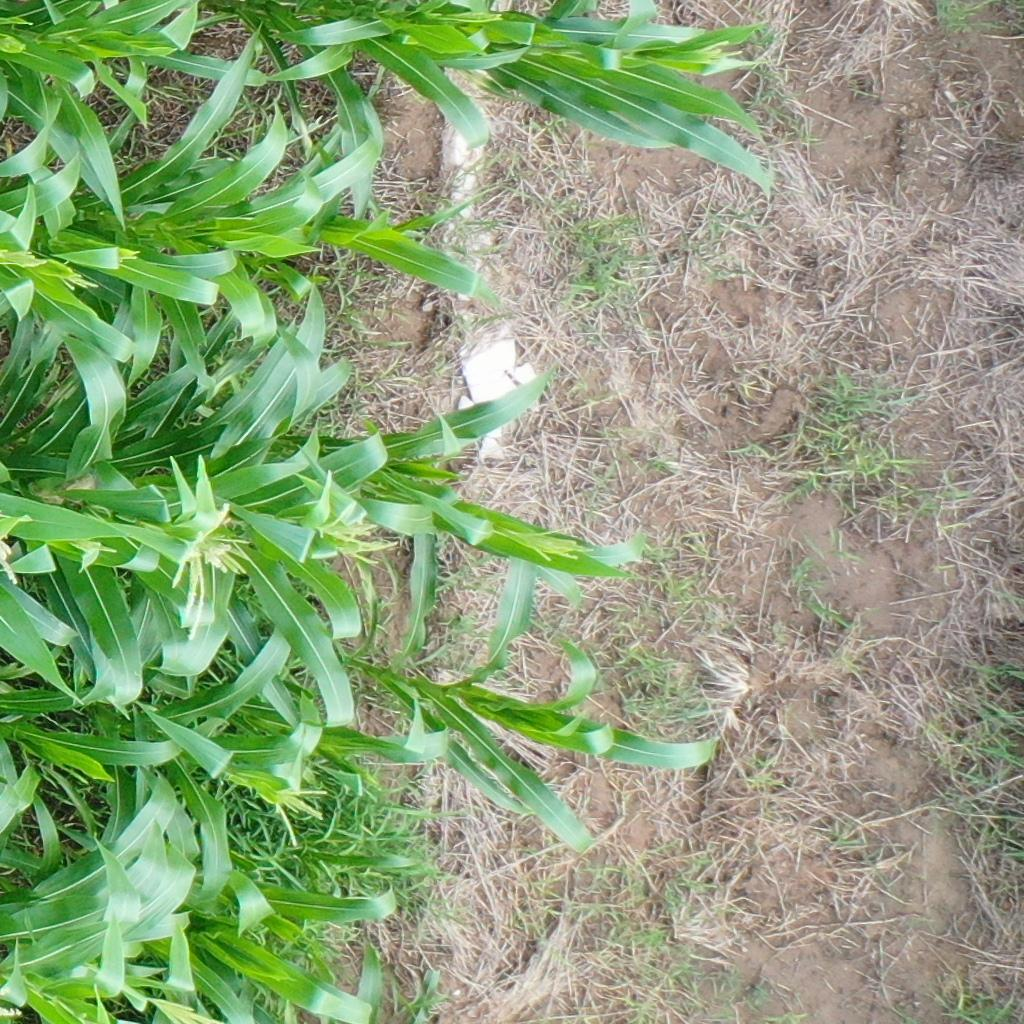Tassel: (171, 500, 243, 641), (318, 498, 390, 567), (271, 785, 328, 850), (514, 522, 596, 564), (692, 36, 767, 70), (150, 997, 233, 1024), (58, 268, 102, 293), (1, 535, 22, 586), (2, 249, 47, 268), (76, 539, 118, 555), (1, 35, 27, 53), (459, 12, 503, 21)
